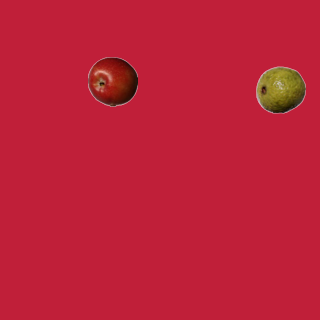Apple Braeburn: (87, 56, 137, 106)
Guava: (255, 64, 305, 114)
